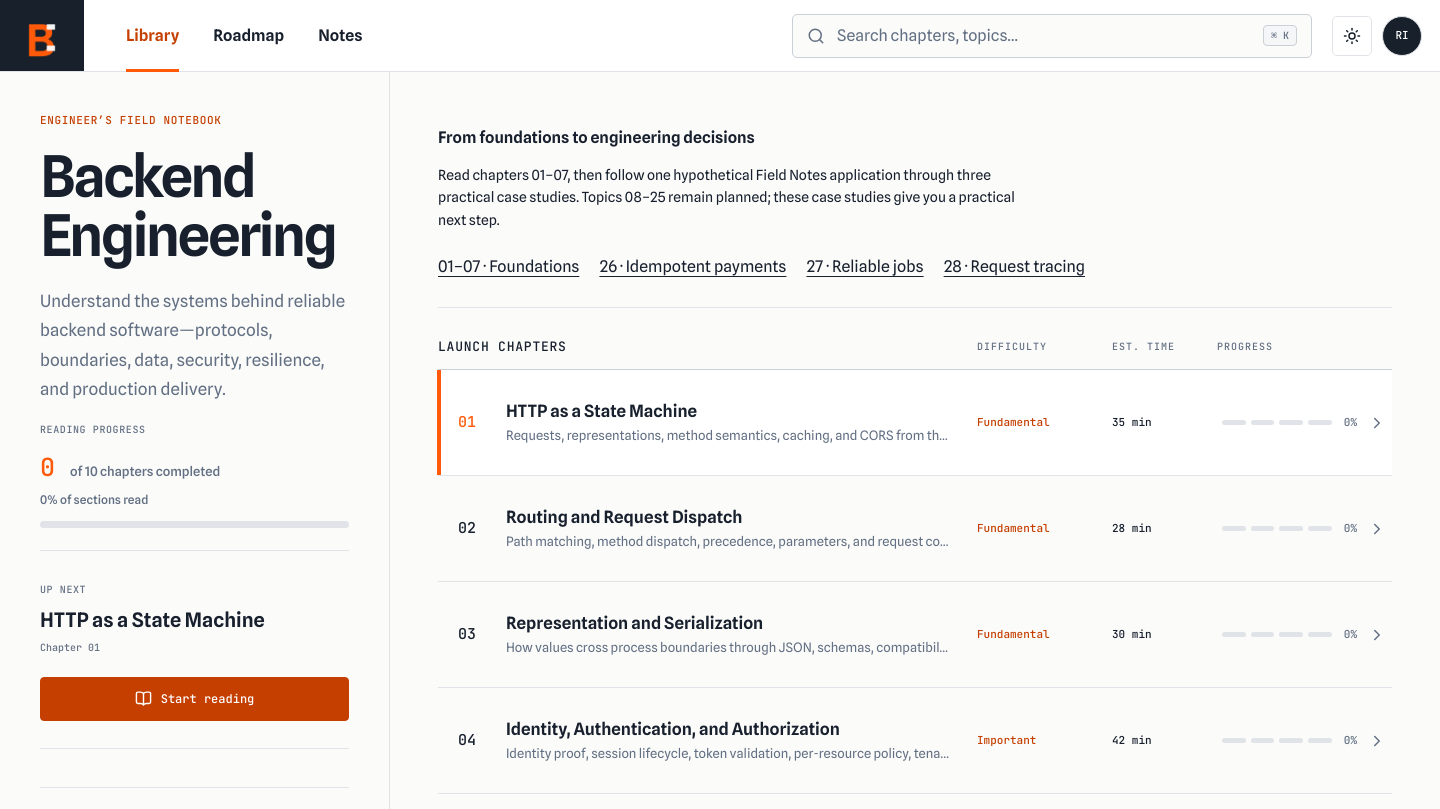
Test case: Backend Engineering prototype › navigates search results by keyboard to a published section and restores focus
The image size is (1440, 809).
Step 1. Click the button with aria-label "Search chapters and topics" → (927, 35), box [792,14,1312,58]
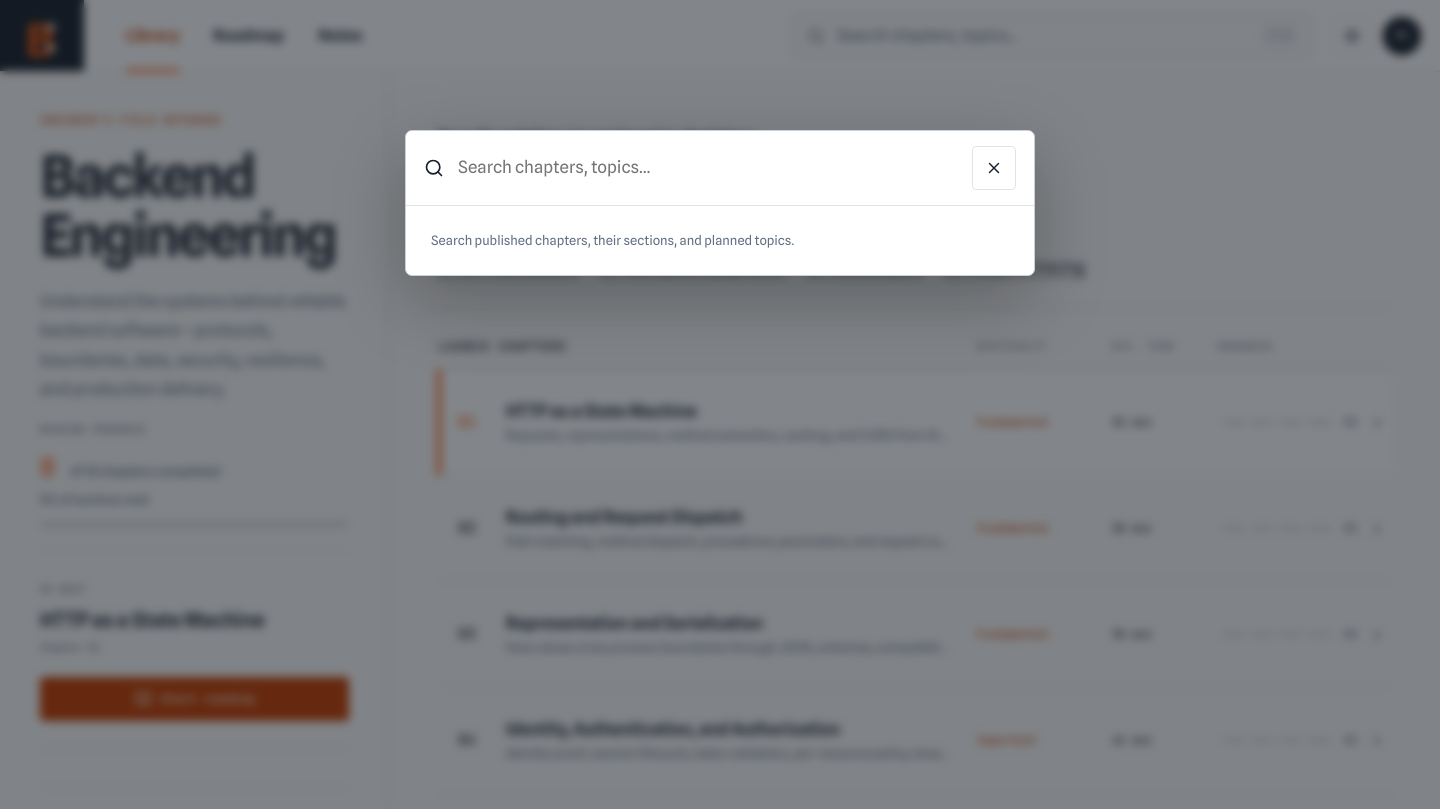
Step 2. Type "cache" into the field named "Search chapters and topics" → (708, 168), box [456,154,960,181]
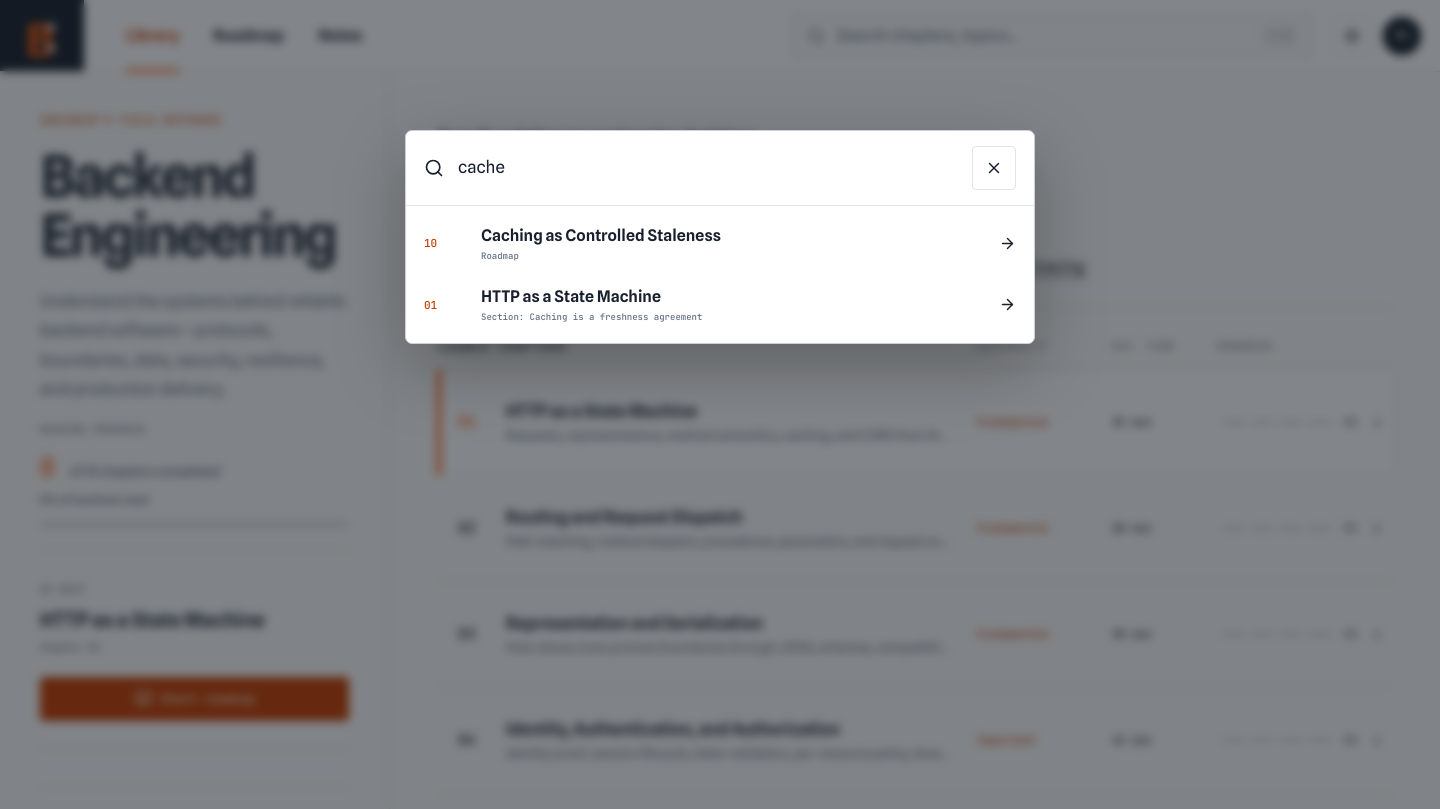
Step 3. Press Arrowdown
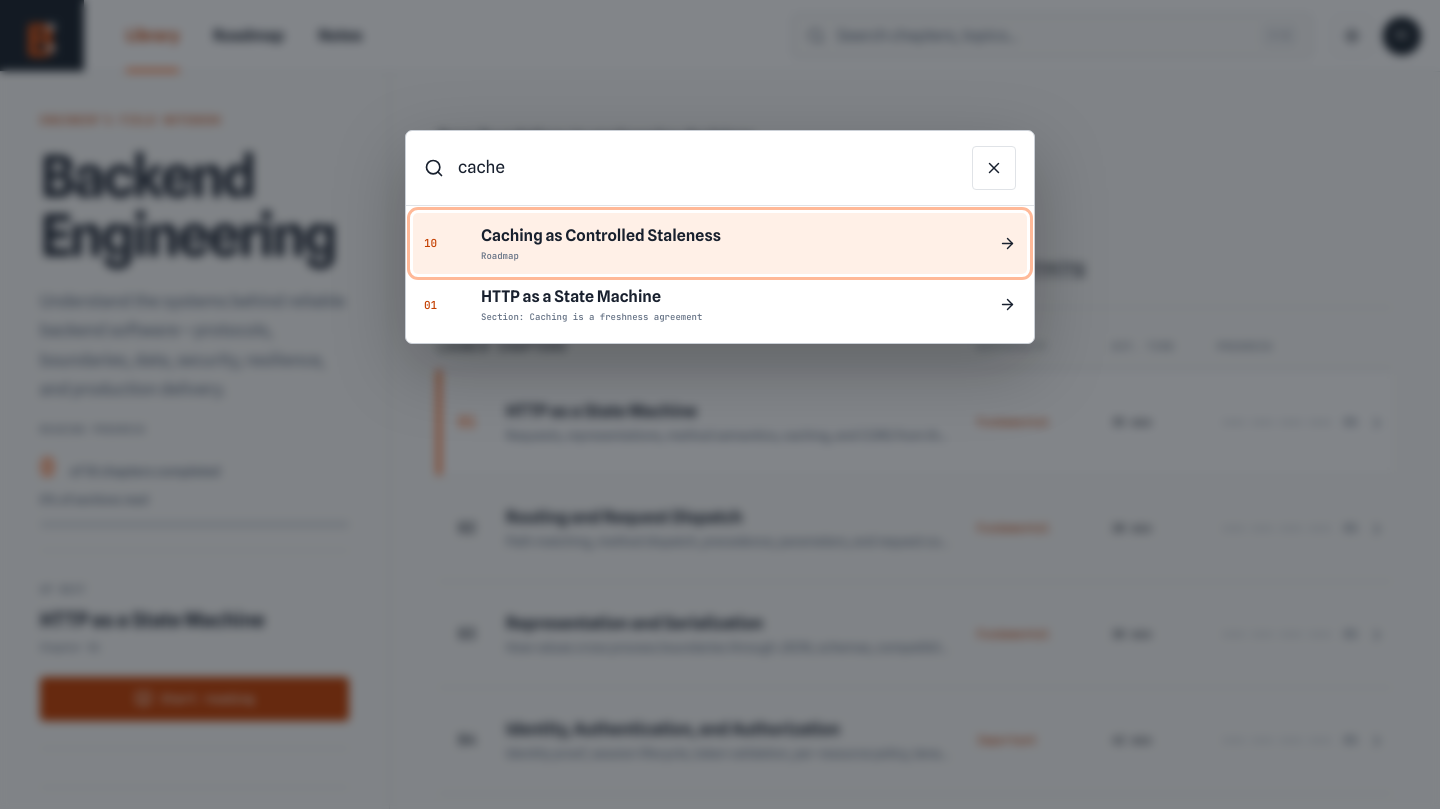
Step 4. Press Arrowdown
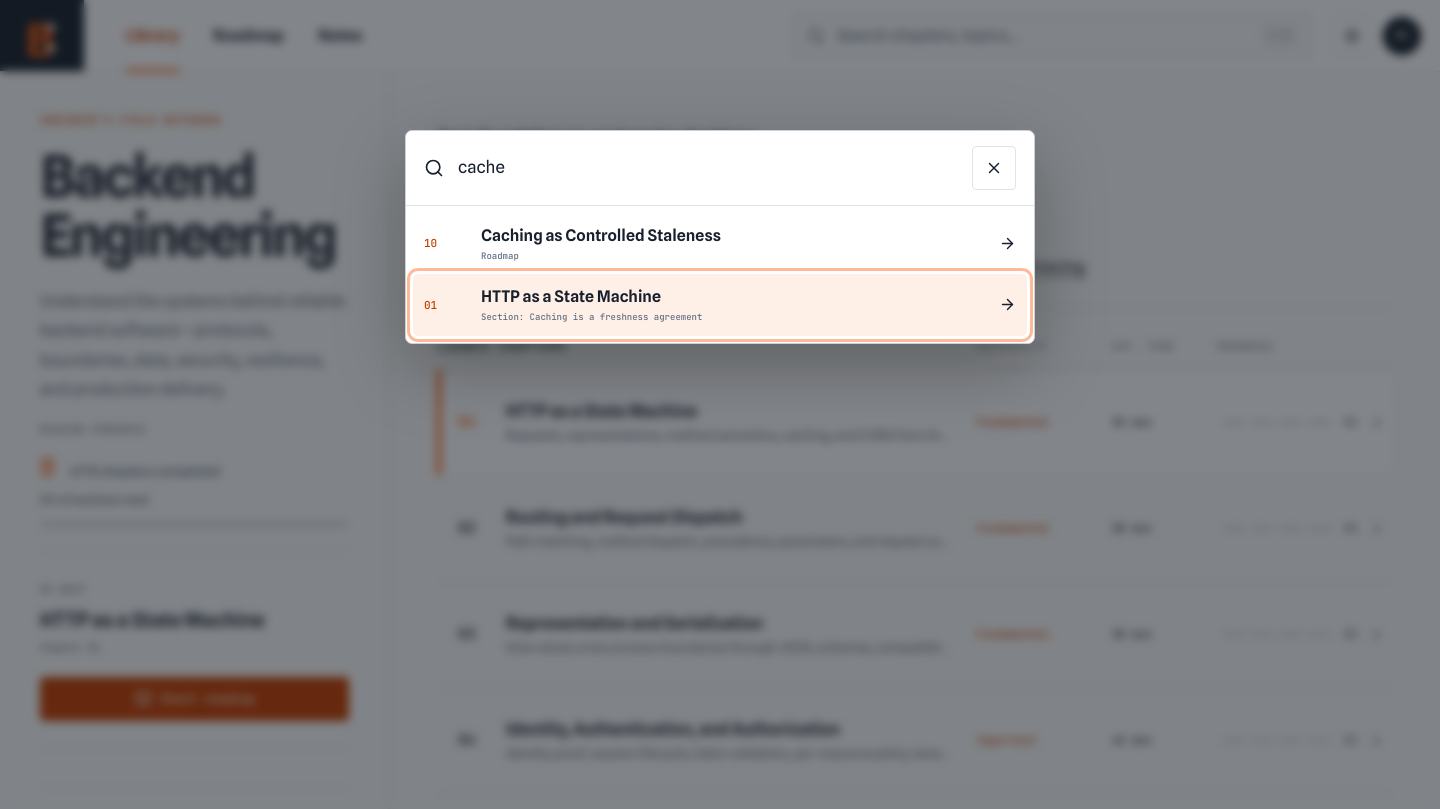
Step 5. Press Enter
(page scrolled)
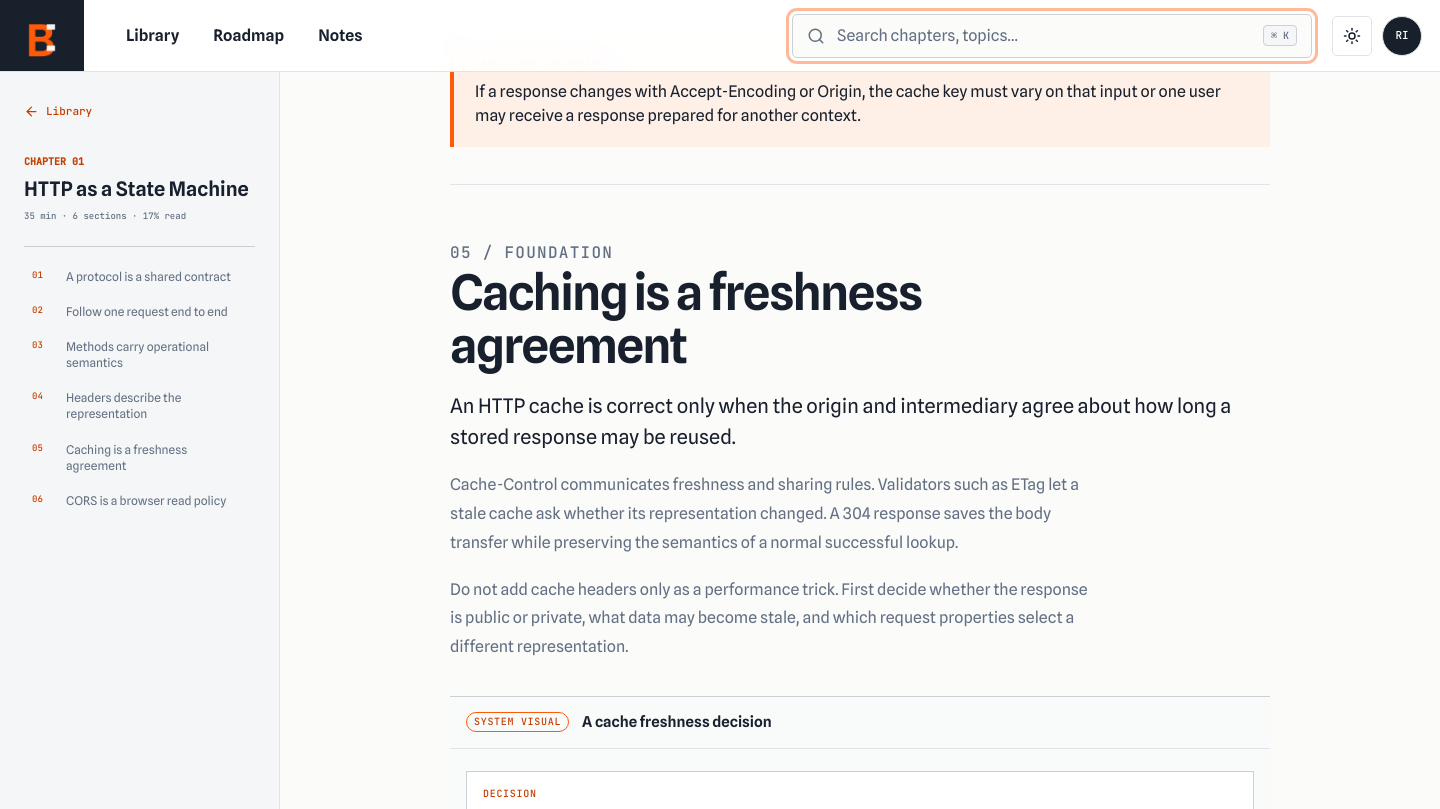
Now the dialog is gone
